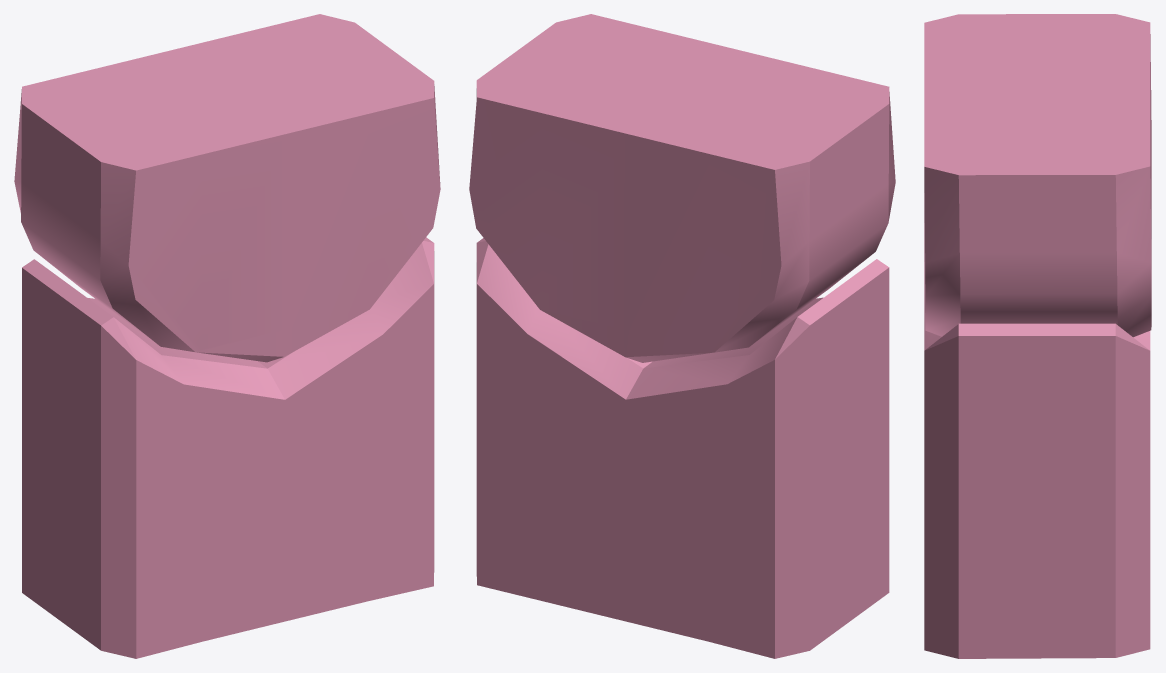
Rendered from TwoBricksFitting_alpha.FBX.
3 renders of one model, left to right at view 1: azimuth 30°, elevation 25°; view 2: azimuth 150°, elevation 25°; view 3: azimuth 270°, elevation 25°, orthographic.
Visible parts, largest first — view 1: Top; view 2: Top; view 3: Top.
Boxes of the visible parts, left/top/right/bottom form: Top: left=14, top=14, right=440, bottom=658; Top: left=469, top=14, right=895, bottom=658; Top: left=924, top=14, right=1151, bottom=658.
Size of the model in its own units: 36.91 by 51.79 by 22.06.
